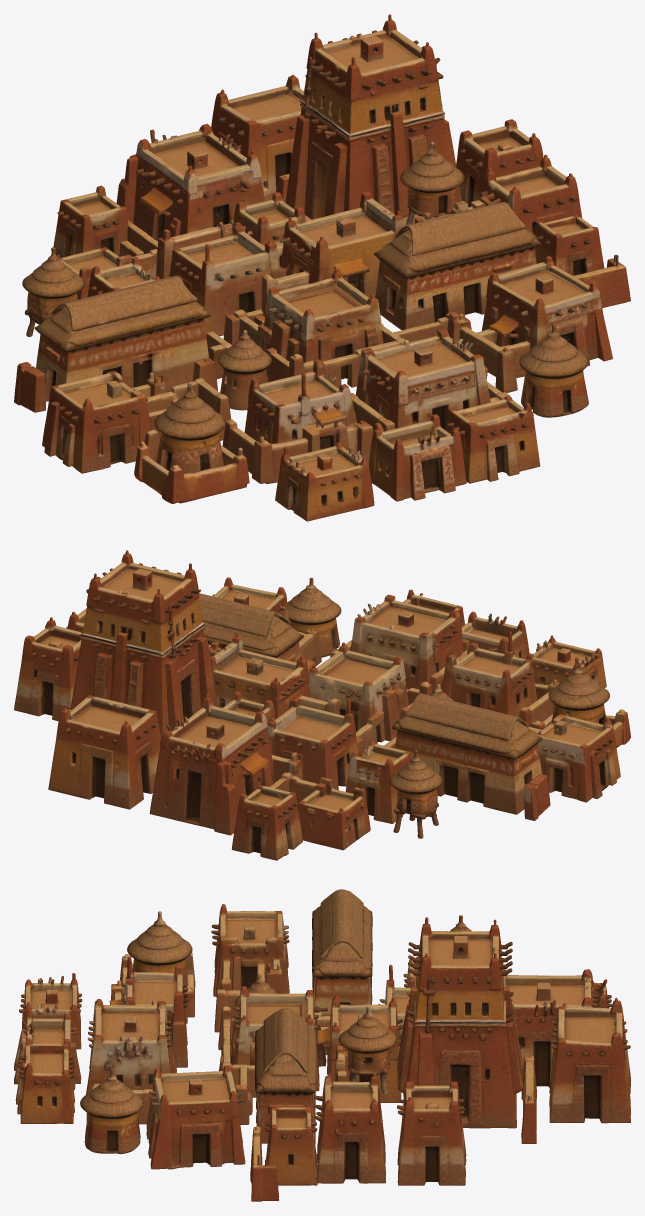
The model's file is Classical Town (West African).fbx.
3 renders of one model, top to bottom at view 1: azimuth 30°, elevation 25°; view 2: azimuth 150°, elevation 25°; view 3: azimuth 270°, elevation 25°, orthographic. The views are drawn at different scales.
Parts seen in each view (by area): view 1: tripo_node_d6acf076; view 2: tripo_node_d6acf076; view 3: tripo_node_d6acf076.
Boxes of the visible parts, x1,y1,x2,y2 form: tripo_node_d6acf076: (14,14,630,521); tripo_node_d6acf076: (14,550,630,860); tripo_node_d6acf076: (14,889,630,1201).
Bounding box in the file's own units: 0.9971 × 0.3999 × 1.
